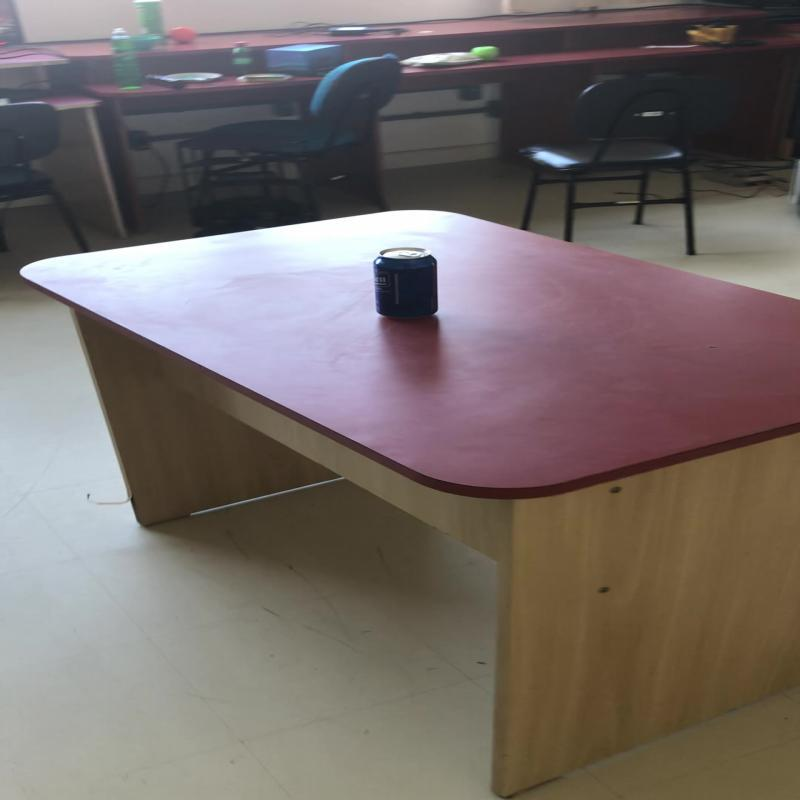tonic: (372, 246, 438, 318), (108, 27, 141, 89), (131, 0, 164, 40), (228, 40, 253, 75)
